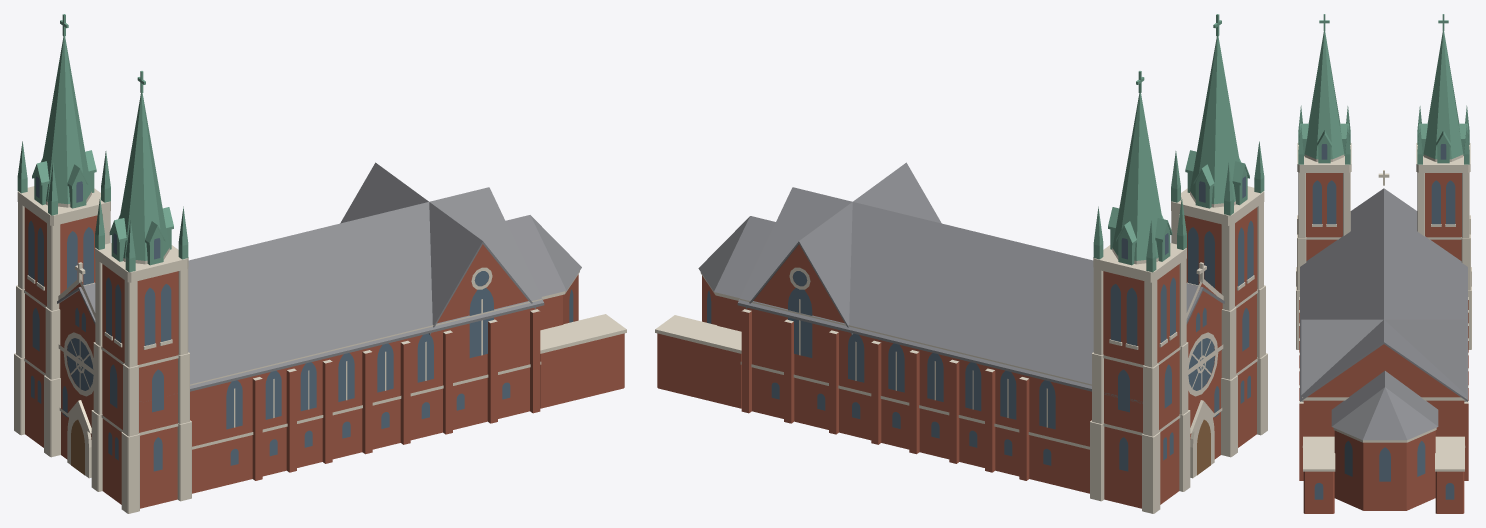
Rendered from indy-st-john-the-evangelist.glb.
3 views of the same model, side by side, from view 1: azimuth 30°, elevation 25°; view 2: azimuth 150°, elevation 25°; view 3: azimuth 270°, elevation 25° (orthographic). The views are drawn at different scales.
Parts seen in each view (by area): view 1: St. John the Evangelist Catholic Church; view 2: St. John the Evangelist Catholic Church; view 3: St. John the Evangelist Catholic Church.
Boxes of the visible parts, <box> form: St. John the Evangelist Catholic Church: <box>14,14,626,513</box>; St. John the Evangelist Catholic Church: <box>655,14,1267,513</box>; St. John the Evangelist Catholic Church: <box>1296,14,1471,513</box>.
Bounding box in the file's own units: 61.85 × 49.5 × 24.4.
